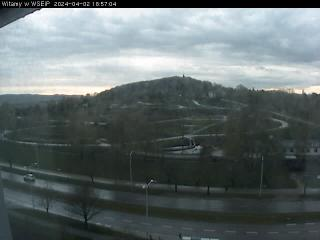car: (23, 174, 34, 182)
